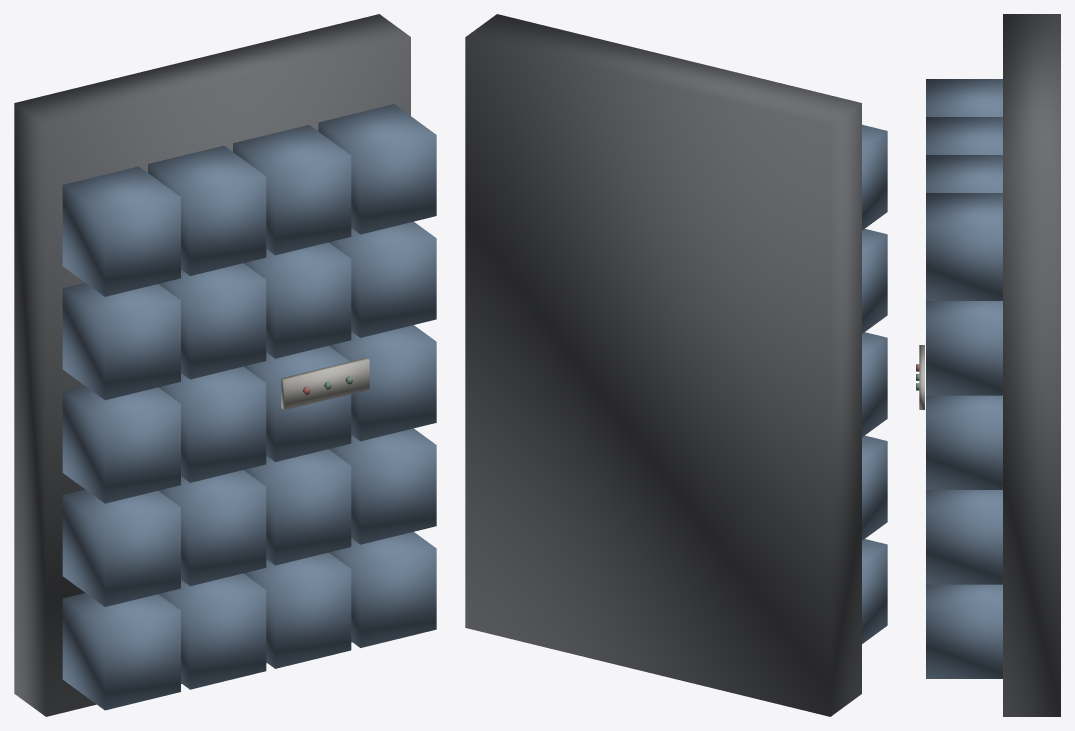
File: parts_bin_rack__tall.glb
3 renders of one model, left to right at view 1: azimuth 30°, elevation 25°; view 2: azimuth 150°, elevation 25°; view 3: azimuth 270°, elevation 25°, orthographic. The views are drawn at different scales.
Visible parts, largest first — view 1: world; view 2: world; view 3: world.
Part boxes in pixels (bbox=[...]): world: bbox=[14, 14, 436, 716]; world: bbox=[465, 14, 887, 716]; world: bbox=[916, 14, 1060, 716].
Bounding box in the file's own units: 1.2 × 1.86 × 0.451.
